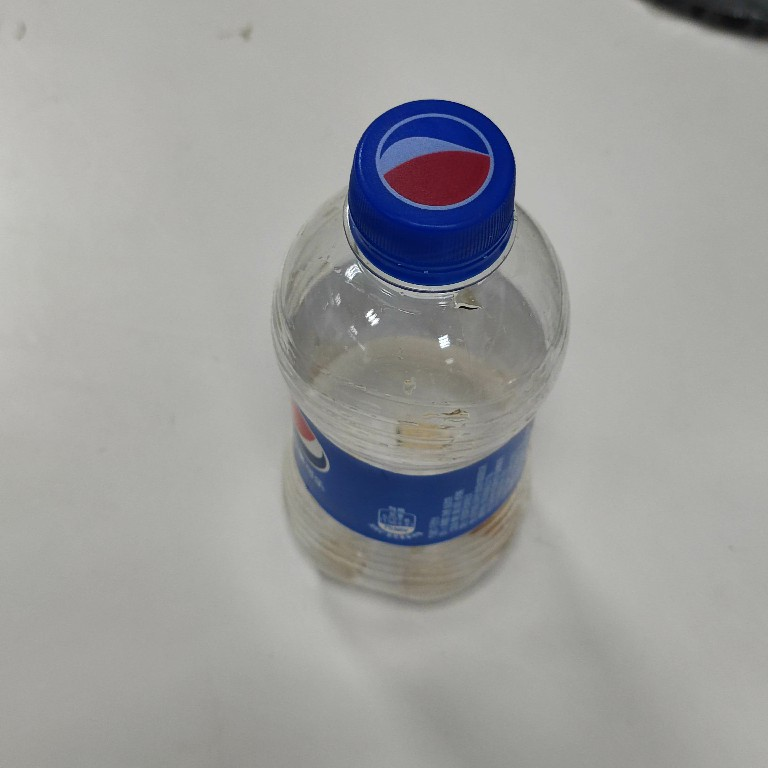bottle: (265, 94, 576, 612)
